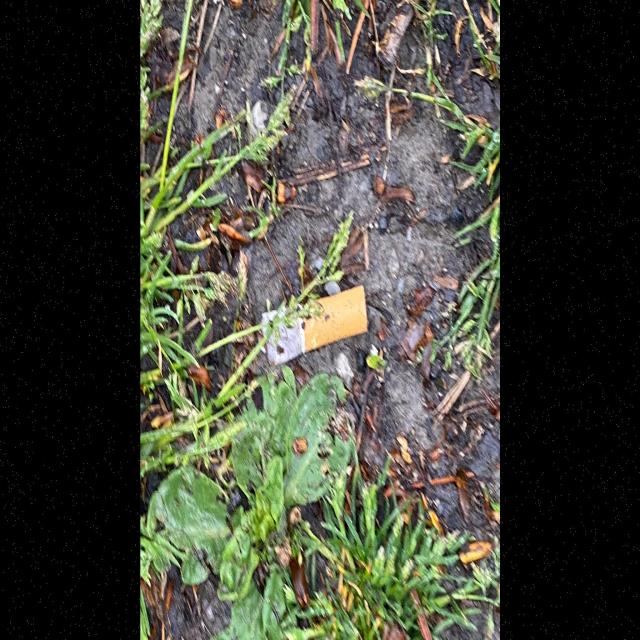other waste: (260, 284, 368, 368)
